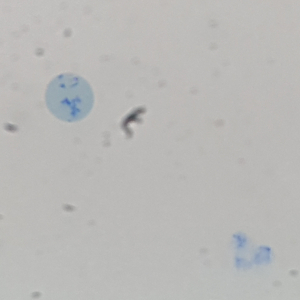aggregate reticulocyte: (43, 71, 96, 124)
